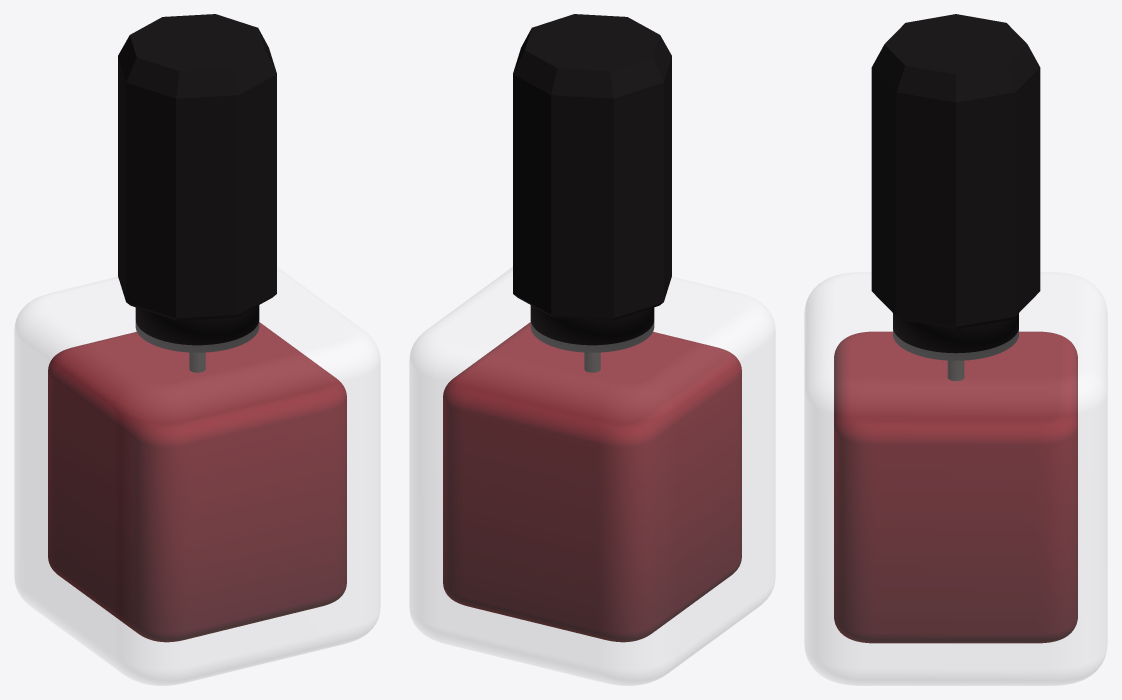
Rendered from nail-polish.glb.
The picture shows the model from 3 angles, left to right: view 1: azimuth 30°, elevation 25°; view 2: azimuth 150°, elevation 25°; view 3: azimuth 270°, elevation 25°; orthographic projection. The views are drawn at different scales.
Visible parts, largest first — view 1: glass-body, liquid, cap, neck; view 2: glass-body, liquid, cap, neck; view 3: glass-body, liquid, cap, neck.
Boxes of the visible parts, bbox=[...] form: glass-body: bbox=[14, 267, 380, 685]; liquid: bbox=[48, 322, 346, 642]; cap: bbox=[118, 14, 276, 320]; neck: bbox=[135, 305, 259, 352]; glass-body: bbox=[409, 267, 775, 685]; liquid: bbox=[443, 322, 741, 642]; cap: bbox=[513, 14, 671, 320]; neck: bbox=[530, 305, 654, 352]; glass-body: bbox=[804, 272, 1107, 685]; liquid: bbox=[834, 331, 1077, 643]; cap: bbox=[871, 14, 1040, 329]; neck: bbox=[893, 313, 1018, 360].
Size of the model in its own units: 0.36 by 0.77 by 0.36.
